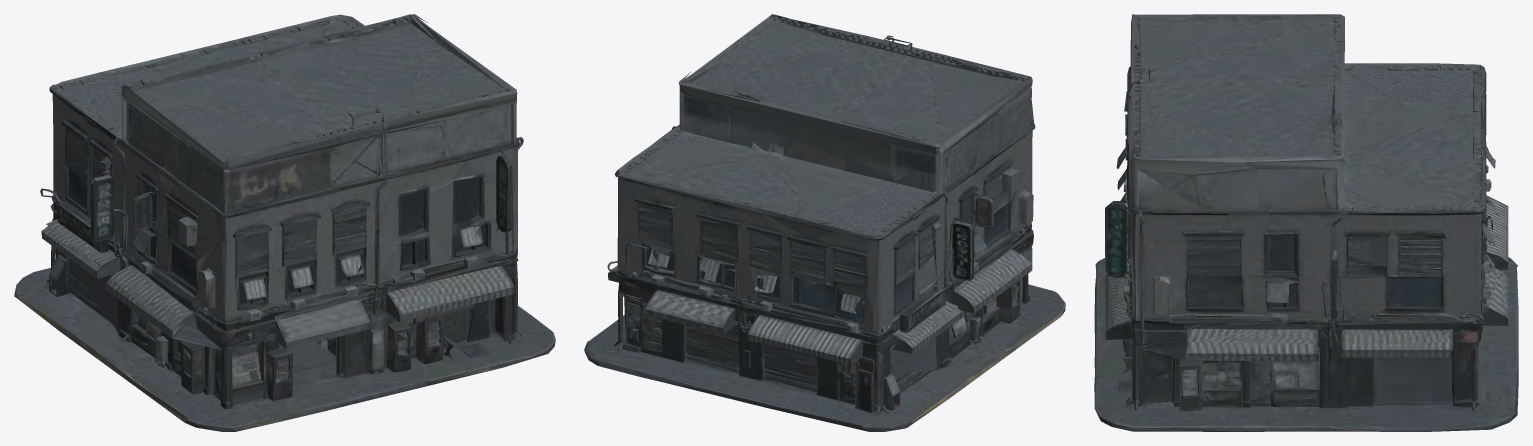
Rendered from mx_bld_shoprow.glb.
3 renders of one model, left to right at view 1: azimuth 30°, elevation 25°; view 2: azimuth 150°, elevation 25°; view 3: azimuth 270°, elevation 25°, orthographic. The views are drawn at different scales.
Bounding box in the file's own units: 1.9 × 1.33 × 1.9.
1 material, 1 textured.
